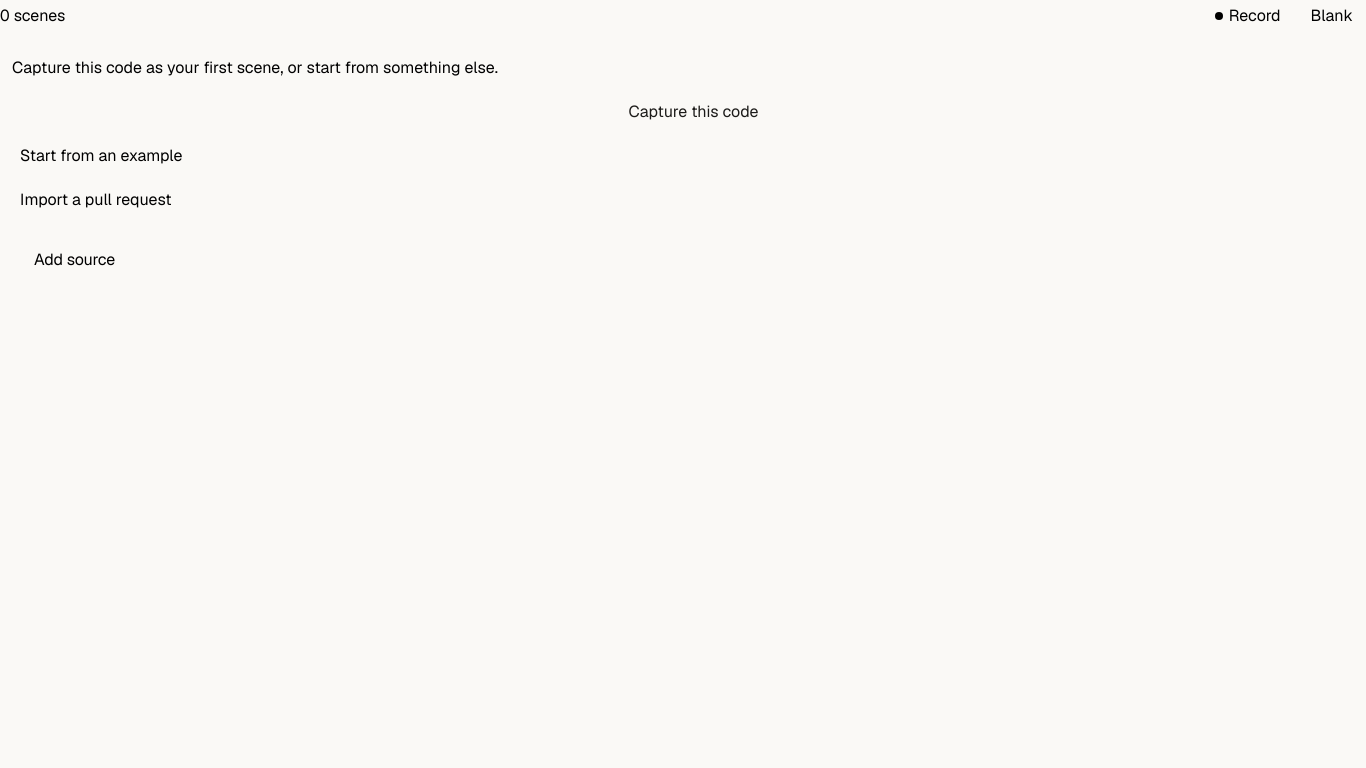
it: the empty scene list on the phone sheet › opens the pull request importer for real when Import a pull request is pressed
Click the button "Import a pull request" at (96, 200), box [8, 180, 1358, 220]
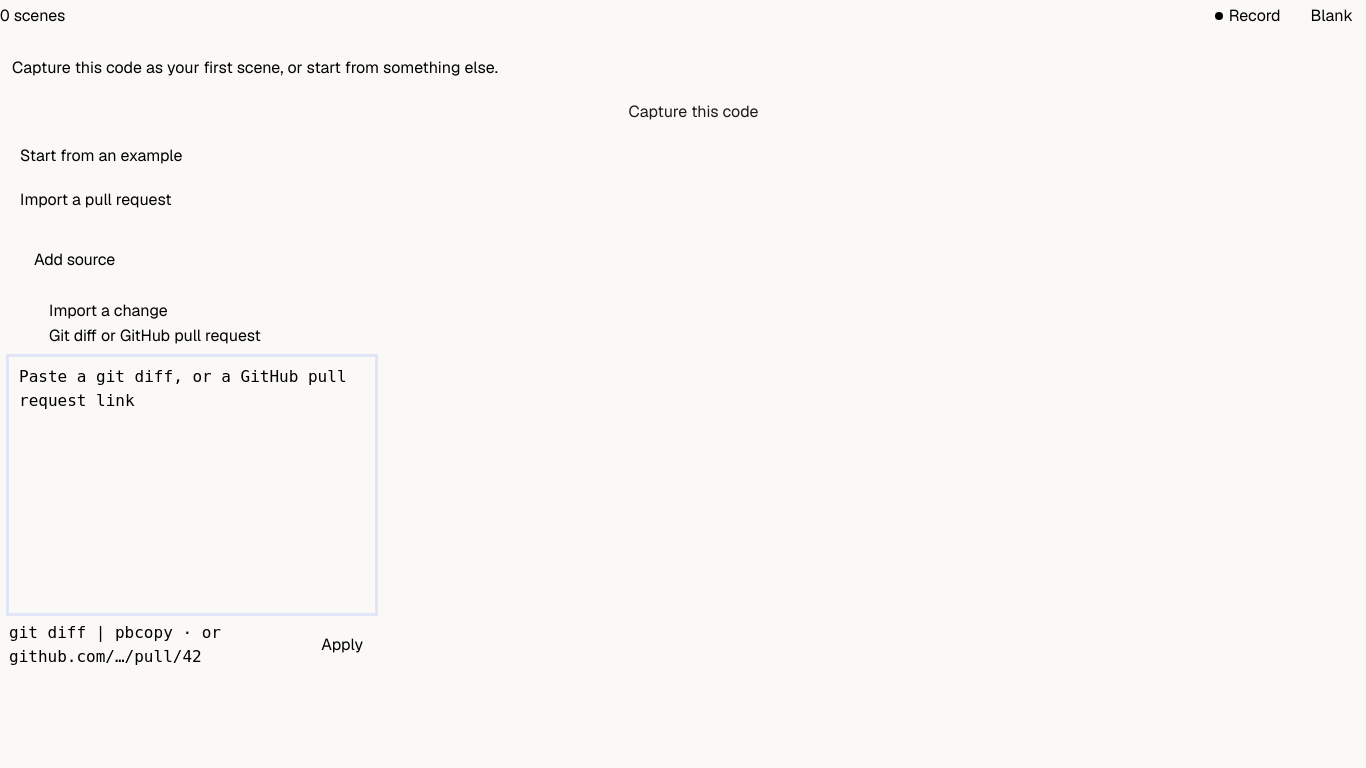
Expected: the dialog named "Import a git diff" is shown, [0, 288, 384, 678]
